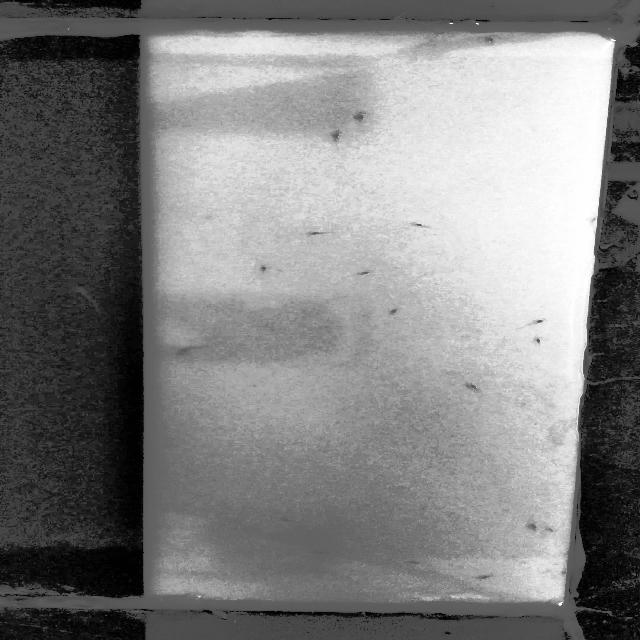shrimp: (276, 513, 311, 532), (170, 341, 203, 358), (302, 227, 348, 239), (409, 220, 444, 234), (519, 316, 548, 332), (352, 111, 377, 129), (475, 32, 505, 44), (469, 380, 490, 397), (403, 559, 434, 570), (315, 547, 342, 559), (474, 574, 501, 586), (252, 264, 280, 274), (522, 337, 548, 346), (349, 269, 371, 278), (332, 131, 347, 142), (383, 308, 401, 317), (526, 524, 542, 532)
